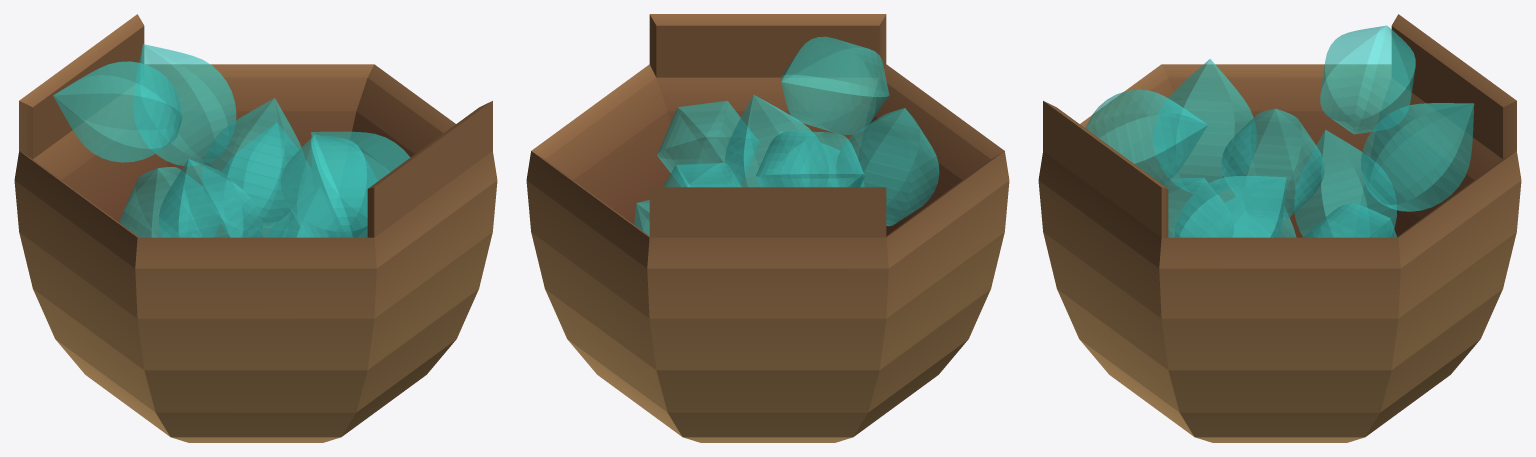
File: pappa per apette_acqua.fbx
The picture shows the model from 3 angles, left to right: view 1: azimuth 30°, elevation 25°; view 2: azimuth 150°, elevation 25°; view 3: azimuth 270°, elevation 25°; orthographic projection.
Visible parts, largest first — view 1: cestino 2, Sphere.004, Sphere.014, Sphere.003, Sphere.010, Sphere.011, Sphere.013, Sphere.006, Sphere.012, Sphere.009; view 2: cestino 2, Sphere.010, Sphere.011, Sphere.004, Sphere.013, Sphere.003, Sphere.014; view 3: cestino 2, Sphere.014, Sphere.011, Sphere.004, Sphere.003, Sphere.006, Sphere.010, Sphere.013, Sphere.009, Sphere.012, Sphere.007.
Boxes of the visible parts, x1,y1,x2,y2 form: cestino 2: (14, 14, 497, 442); Sphere.004: (203, 98, 305, 229); Sphere.014: (133, 44, 236, 165); Sphere.003: (53, 61, 182, 162); Sphere.010: (281, 134, 377, 237); Sphere.011: (159, 159, 262, 237); Sphere.013: (311, 131, 409, 237); Sphere.006: (120, 167, 220, 237); Sphere.012: (221, 123, 313, 237); Sphere.009: (265, 187, 353, 237); cestino 2: (526, 14, 1009, 442); Sphere.010: (781, 36, 889, 134); Sphere.011: (836, 108, 939, 226); Sphere.004: (724, 95, 827, 187); Sphere.013: (657, 101, 758, 186); Sphere.003: (755, 131, 864, 187); Sphere.014: (663, 162, 741, 187); cestino 2: (1038, 14, 1521, 442); Sphere.014: (1361, 103, 1474, 211); Sphere.011: (1154, 59, 1255, 193); Sphere.004: (1221, 108, 1324, 219); Sphere.003: (1320, 25, 1415, 134); Sphere.006: (1294, 130, 1396, 237); Sphere.010: (1085, 89, 1207, 184); Sphere.013: (1174, 176, 1286, 237); Sphere.009: (1163, 177, 1233, 237); Sphere.012: (1304, 203, 1396, 237); Sphere.007: (1225, 197, 1296, 237).
Bounding box in the file's own units: 243 × 208 × 281.
Materials: 13 (1 with a texture image).
